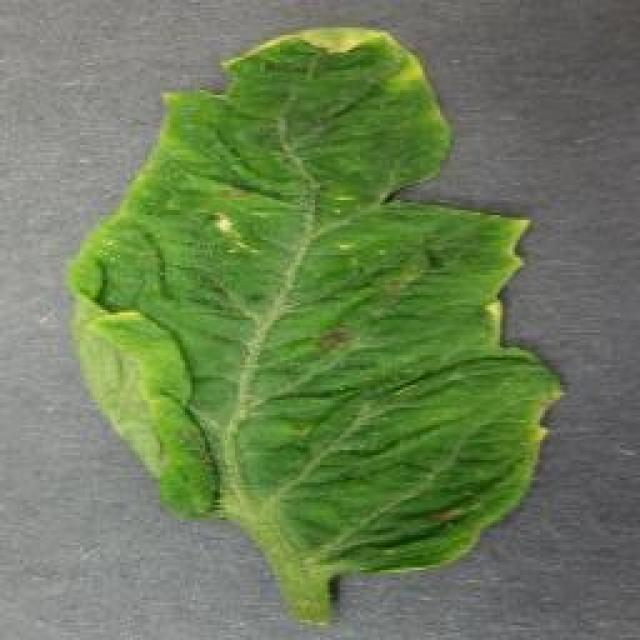Tomato yellow virus leaf: (61, 21, 566, 576)
